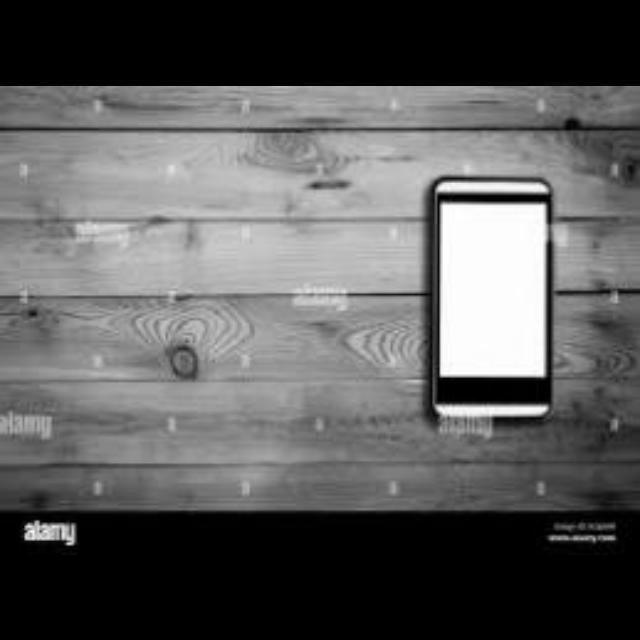fake: (428, 170, 552, 425)
